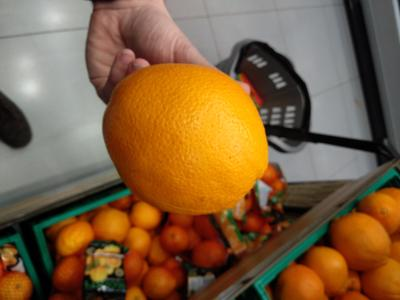orange: (0, 0, 400, 300)
